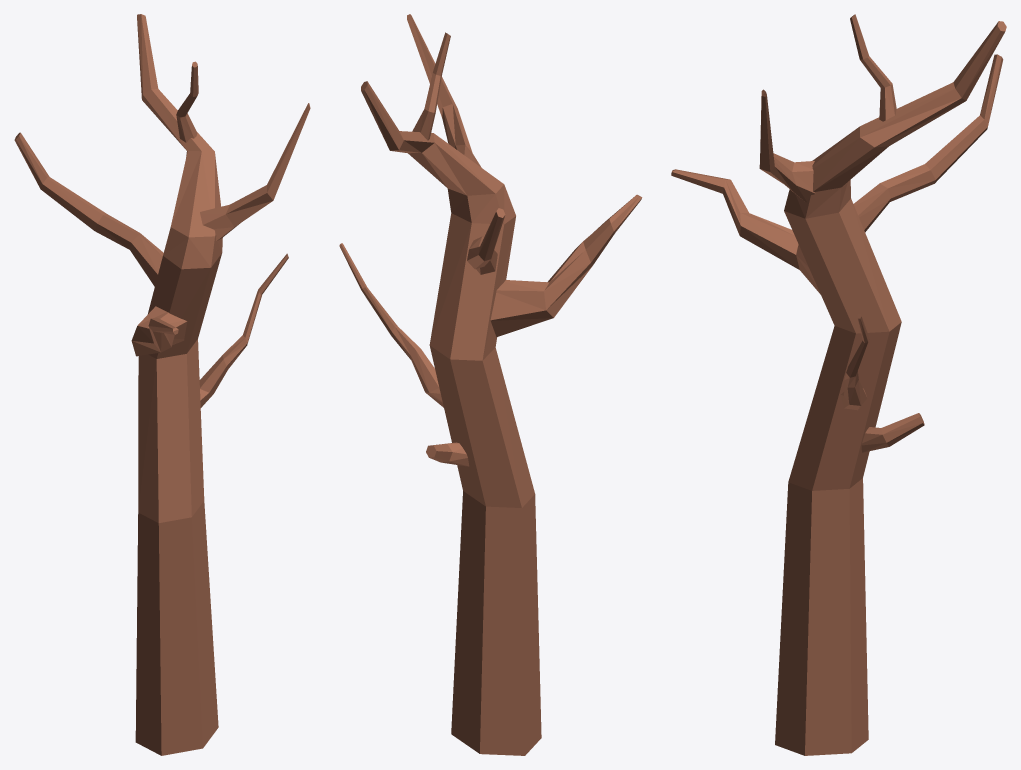
Rendered from dead_tree2.obj.
3 views of the same model, side by side, from view 1: azimuth 30°, elevation 25°; view 2: azimuth 150°, elevation 25°; view 3: azimuth 270°, elevation 25° (orthographic). The views are drawn at different scales.
Size of the model in its own units: 3.03 by 8.97 by 3.63.
